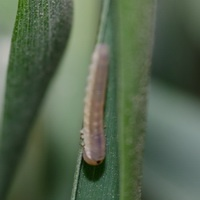insect: (81, 0, 109, 165), (81, 43, 108, 165)
